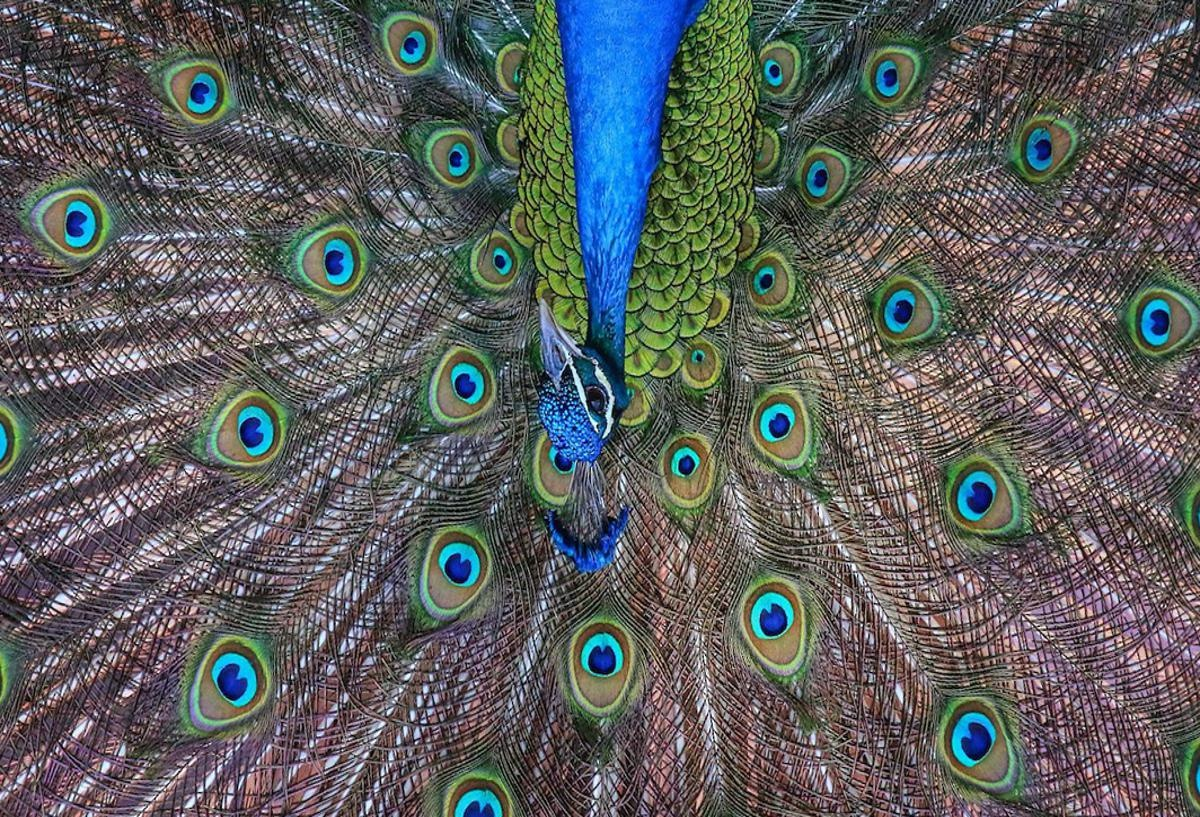peacock: (61, 1, 1161, 673)
